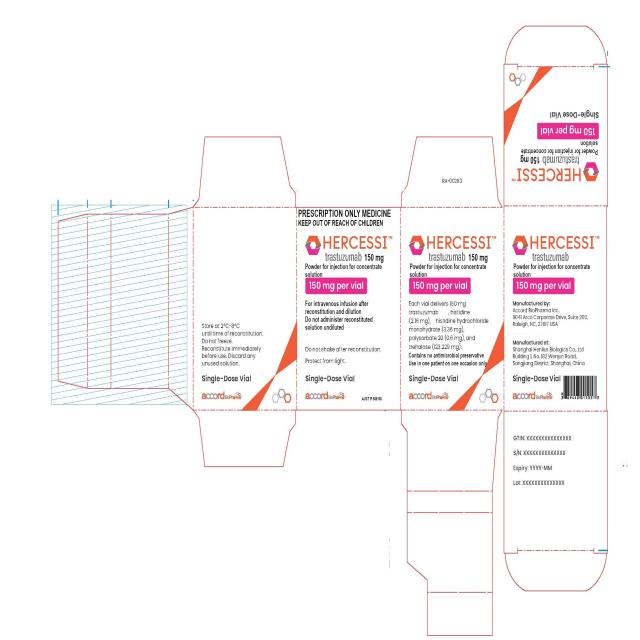Artwork: (0, 0, 640, 640)
Back_Panel: (504, 206, 607, 411)
Bottom_Part: (504, 411, 608, 553)
Extra_Areas: (51, 201, 193, 411), (401, 410, 502, 637), (400, 135, 503, 207), (194, 135, 297, 207), (194, 411, 297, 468), (504, 552, 607, 593), (505, 25, 607, 64)
Front_Panel: (297, 207, 400, 410)
Side_Panel: (400, 207, 504, 410), (194, 207, 297, 410)
Top_Panel: (504, 64, 607, 206)
